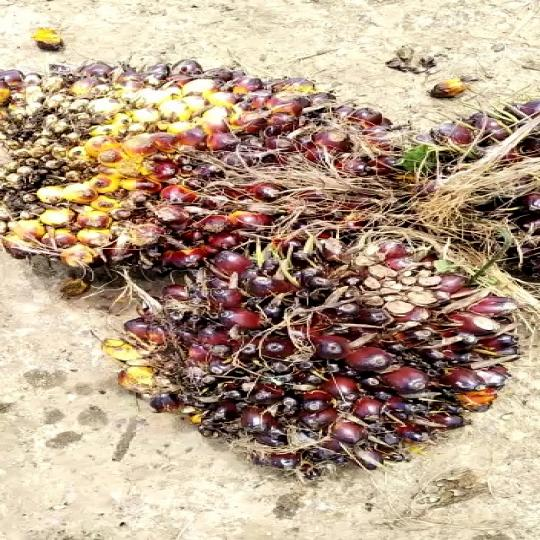kurang masak: (128, 238, 510, 484), (0, 66, 385, 277)
